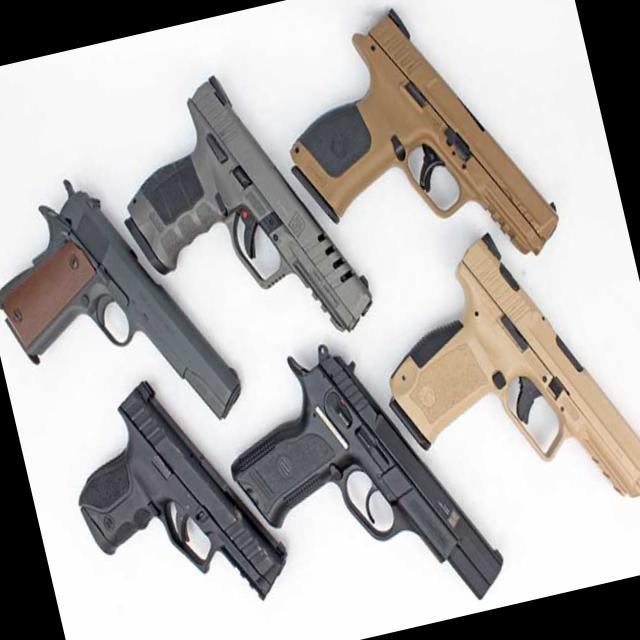Weapon: (198, 313, 515, 640), (353, 202, 640, 554), (253, 0, 571, 313), (98, 49, 378, 390), (0, 148, 250, 471), (47, 352, 304, 640)
